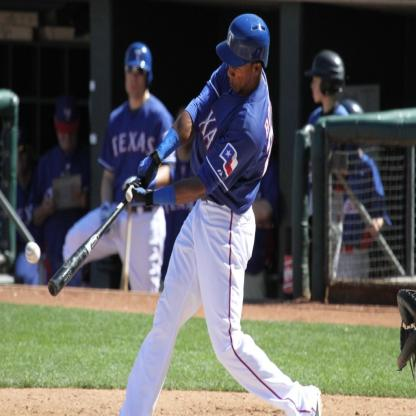Helmet: (216, 16, 271, 71), (300, 49, 345, 82), (123, 43, 156, 84), (341, 102, 362, 118)
